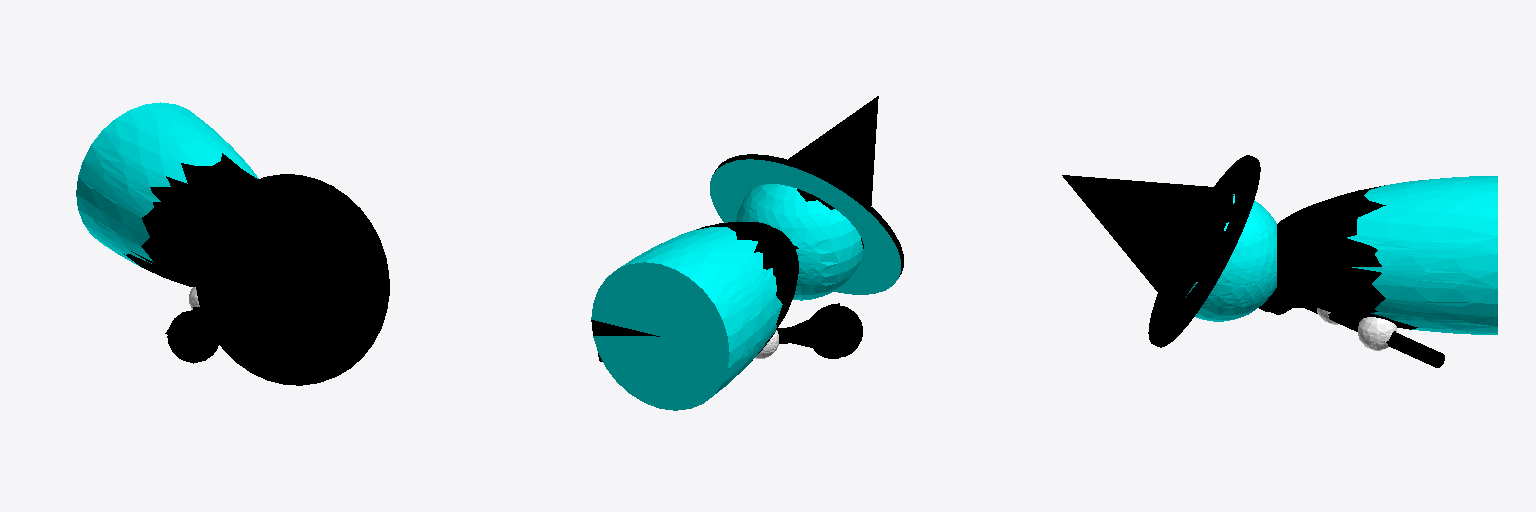
Rendered from CyanPawn.obj.
The picture shows the model from 3 angles: view 1: azimuth 30°, elevation 25°; view 2: azimuth 150°, elevation 25°; view 3: azimuth 270°, elevation 25°; orthographic projection.
Visible parts, largest first — view 1: WizardPawn; view 2: WizardPawn; view 3: WizardPawn.
Boxes of the visible parts, x1=… form: WizardPawn: x1=76, y1=102, x2=389, y2=385; WizardPawn: x1=591, y1=96, x2=903, y2=410; WizardPawn: x1=1062, y1=155, x2=1497, y2=367.
Size of the model in its own units: 14.59 by 13.3 by 29.5.